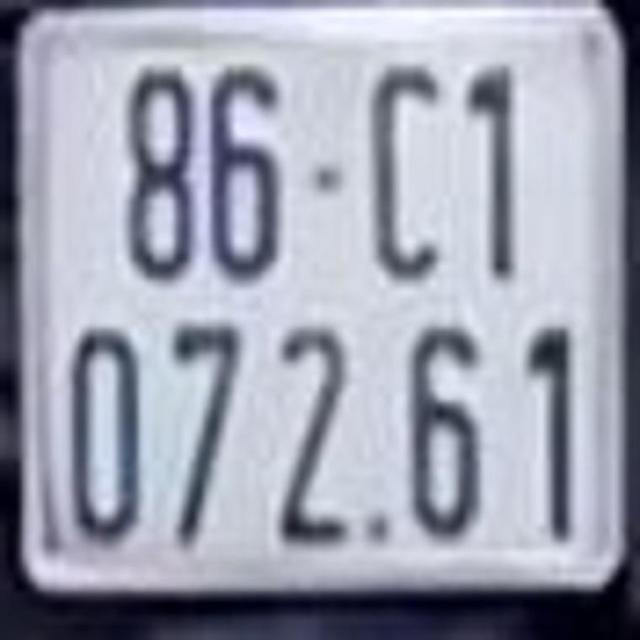0: (67, 321, 144, 543)
1: (462, 61, 528, 281), (520, 320, 581, 544)
2: (275, 320, 352, 546)
6: (206, 59, 285, 282), (406, 320, 486, 538)
7: (167, 316, 243, 548)
8: (122, 61, 196, 283)
C: (365, 59, 449, 283)
